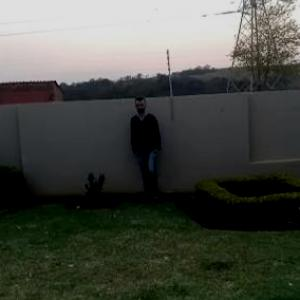follow: (129, 93, 163, 204)
